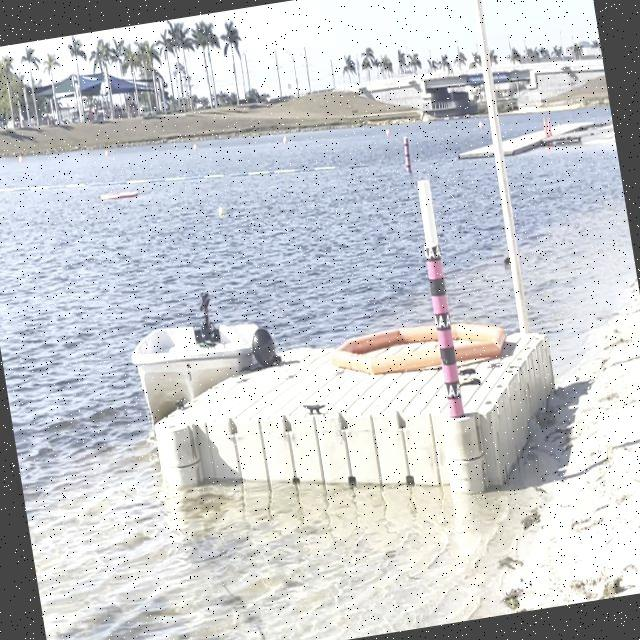buoy: (213, 200, 230, 222)
